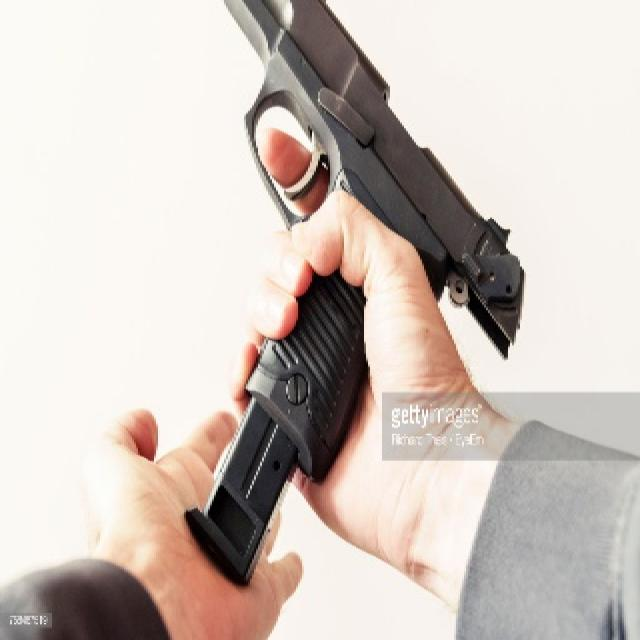handgun: (185, 1, 523, 584)
